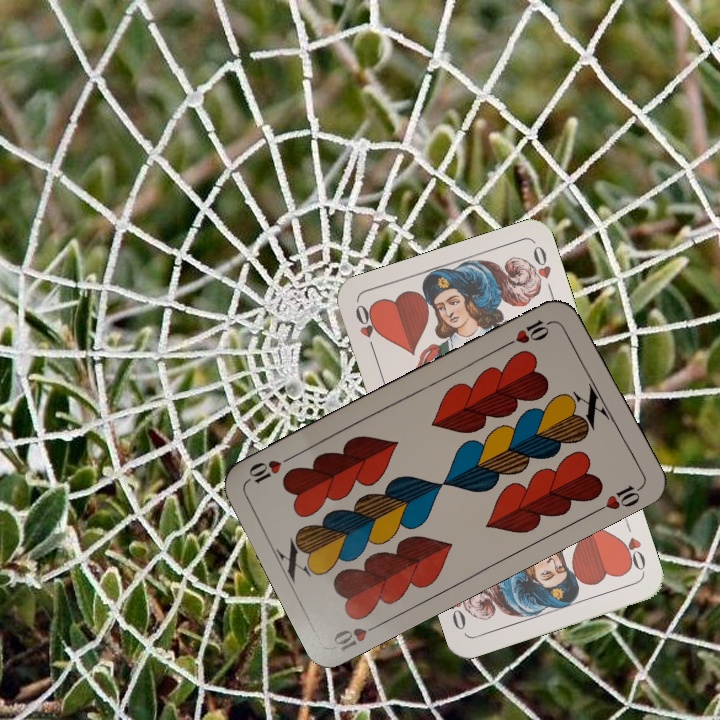H10: (329, 617, 386, 654), (501, 315, 557, 349)
HO: (615, 518, 648, 575), (351, 300, 381, 358)
